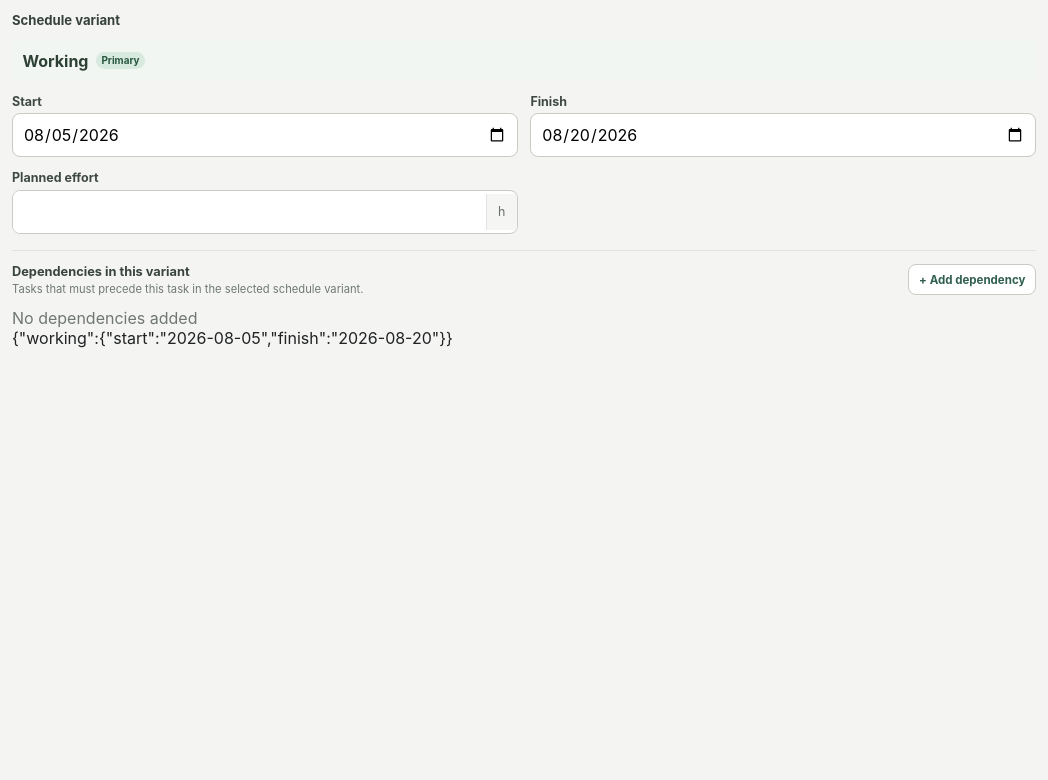
Scenario: ScheduleTracksEditor › adds and removes a dependency on the active track
Click the button "+ Add dependency": (972, 280) [908,264,1036,295]
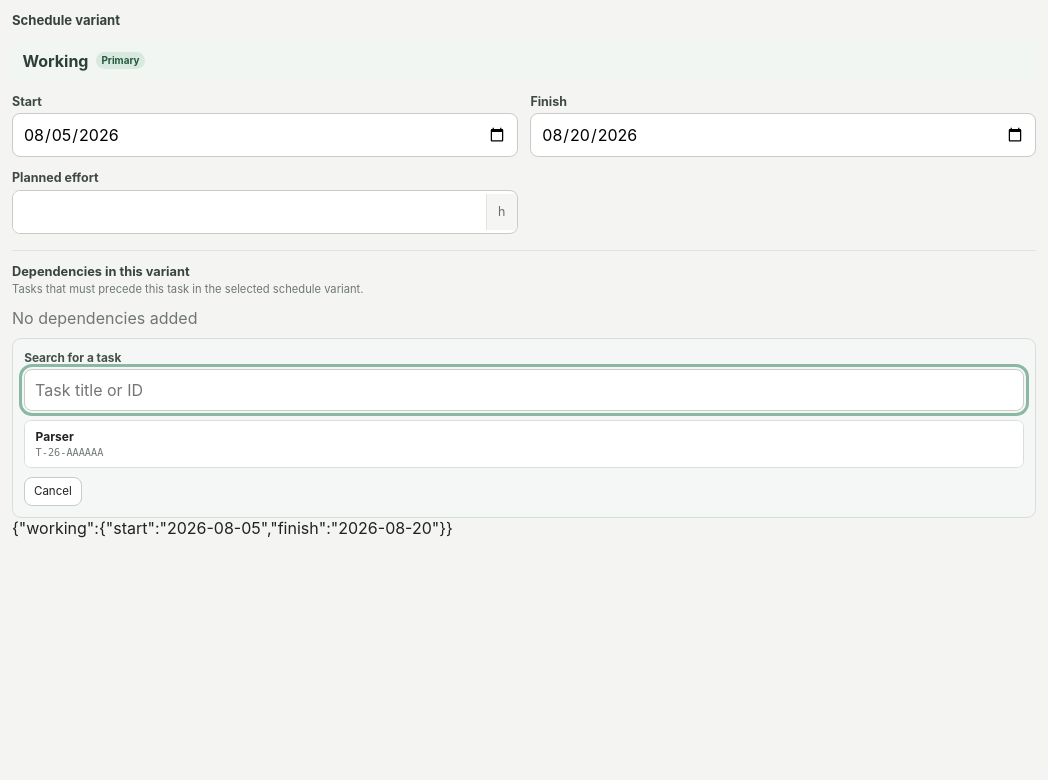
In the search field labelled "Search for a task": (524, 390) [24,369,1024,411], type "Parser"
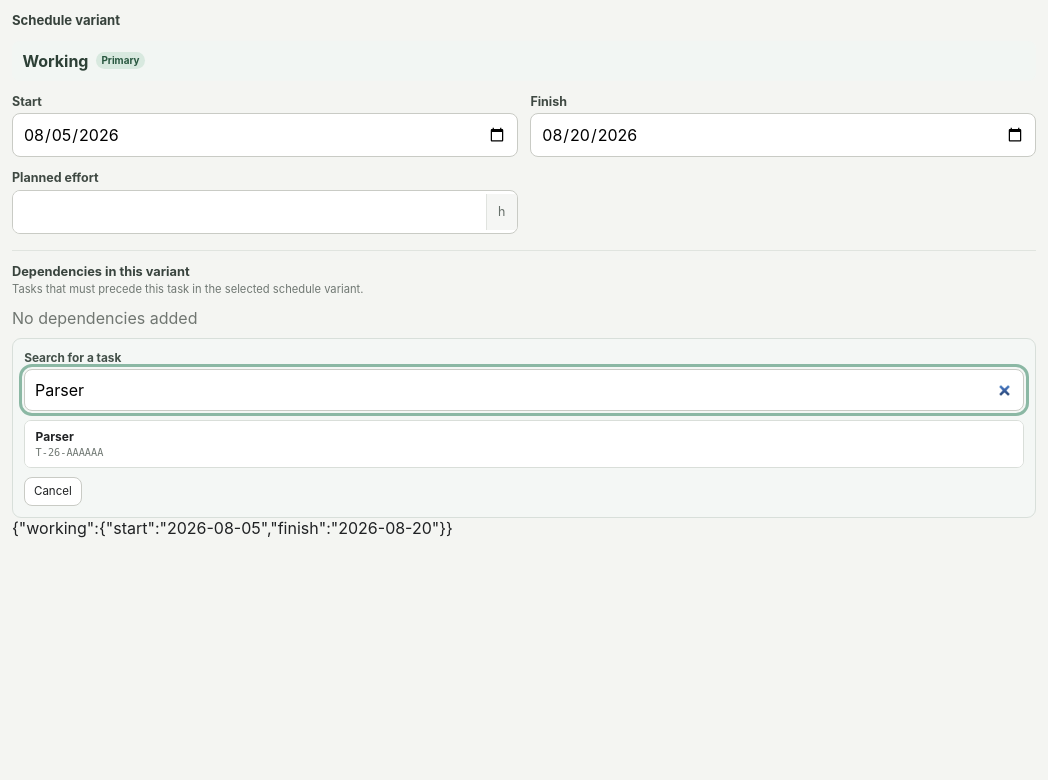
Click the button "Parser T-26-AAAAAA": (55, 437) [25,421,1023,467]
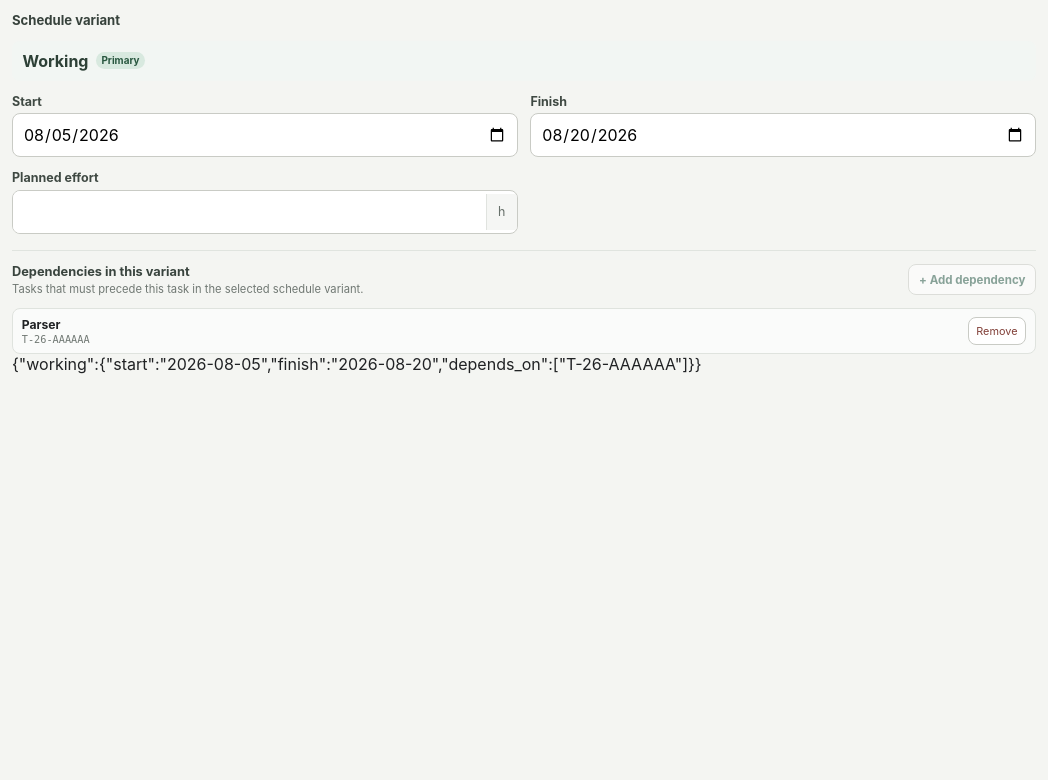
Expected: the text "Parser" is shown, [22,317,60,332]
Click the button with aria-label "Remove dependency Parser": (997, 331) [968,317,1026,345]
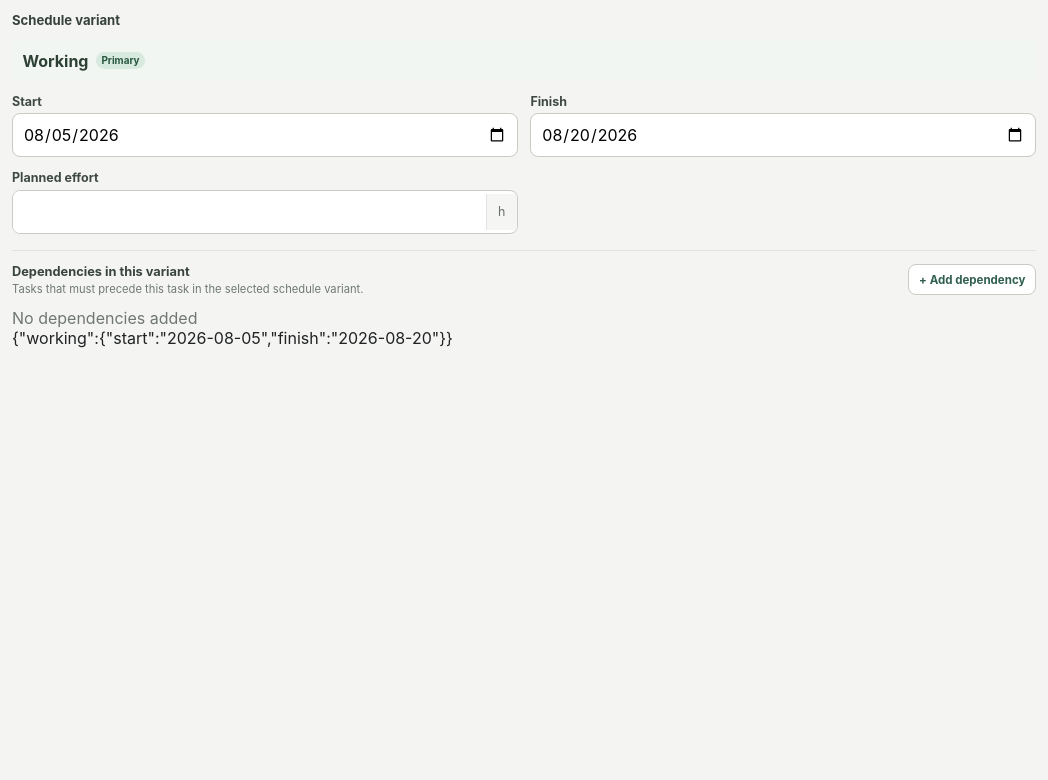
Expected: the text "No dependencies added" is shown, [12,308,197,328]
